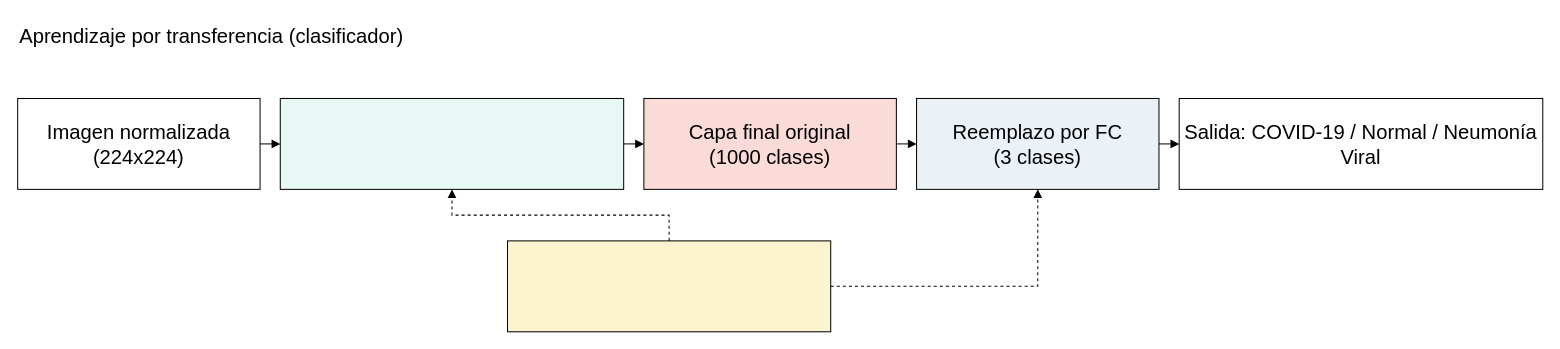
This 1560x349 diagram has some shape labels left out. Each missing label, with the centre of its shape:
Ajuste fino completo (todas las capas entrenables): the point at 669,286
Backbone ResNet-18 preentrenada (ImageNet): the point at 451,143
